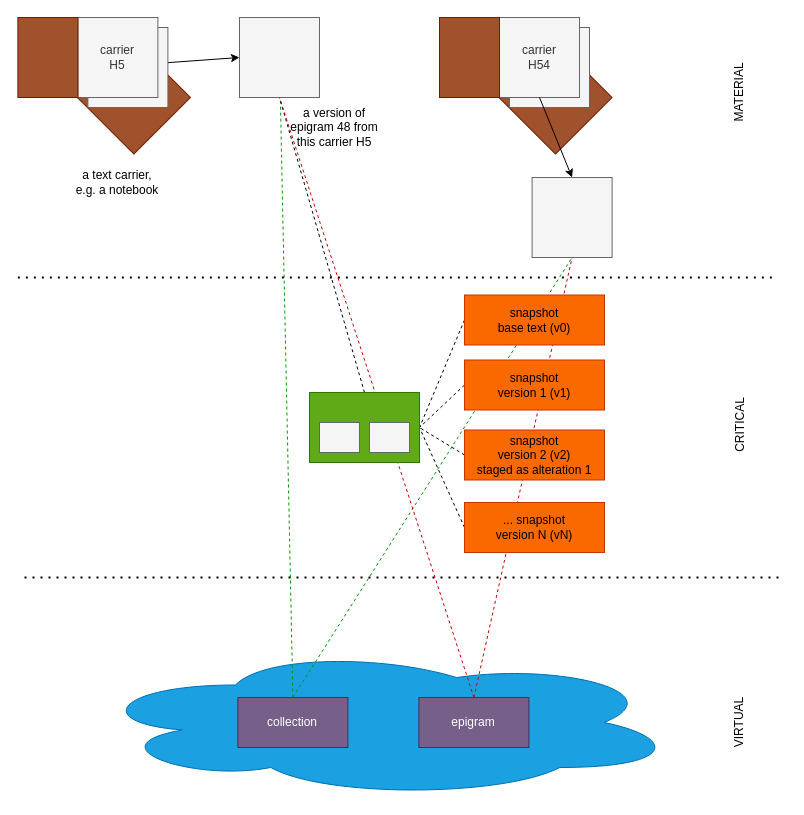
The diagram is 804 pixels wide and 815 high, and some of its shapes have lost their labels. Each missing label, with the box of its shape:
snapshot: (308, 392, 420, 462)
version H5 48: (238, 16, 320, 98)
version H54 N: (531, 176, 612, 258)
